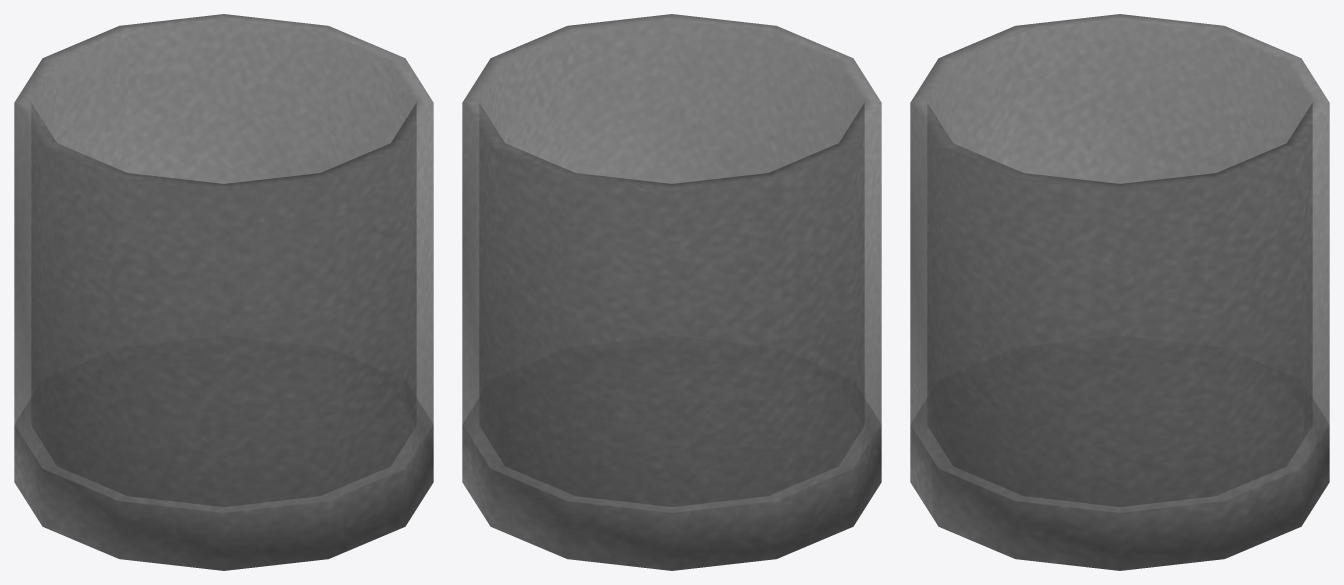
Rendered from empty_glass.obj.
The picture shows the model from 3 angles, left to right: view 1: azimuth 30°, elevation 25°; view 2: azimuth 150°, elevation 25°; view 3: azimuth 270°, elevation 25°; orthographic projection.
Parts seen in each view (by area): view 1: empty_glass; view 2: empty_glass; view 3: empty_glass.
Boxes of the visible parts, x1,y1,x2,y2 form: empty_glass: (14, 14, 433, 570); empty_glass: (462, 14, 881, 570); empty_glass: (910, 14, 1329, 570).
Bounding box in the file's own units: 0.0989 × 0.0989 × 0.0989.
